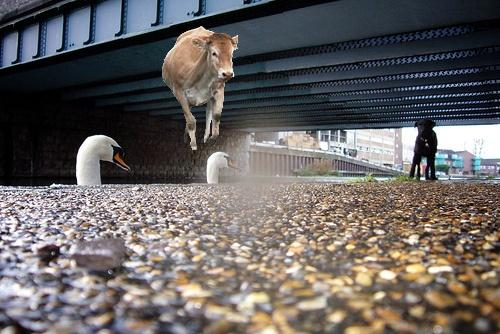tampered: (163, 27, 238, 150)
